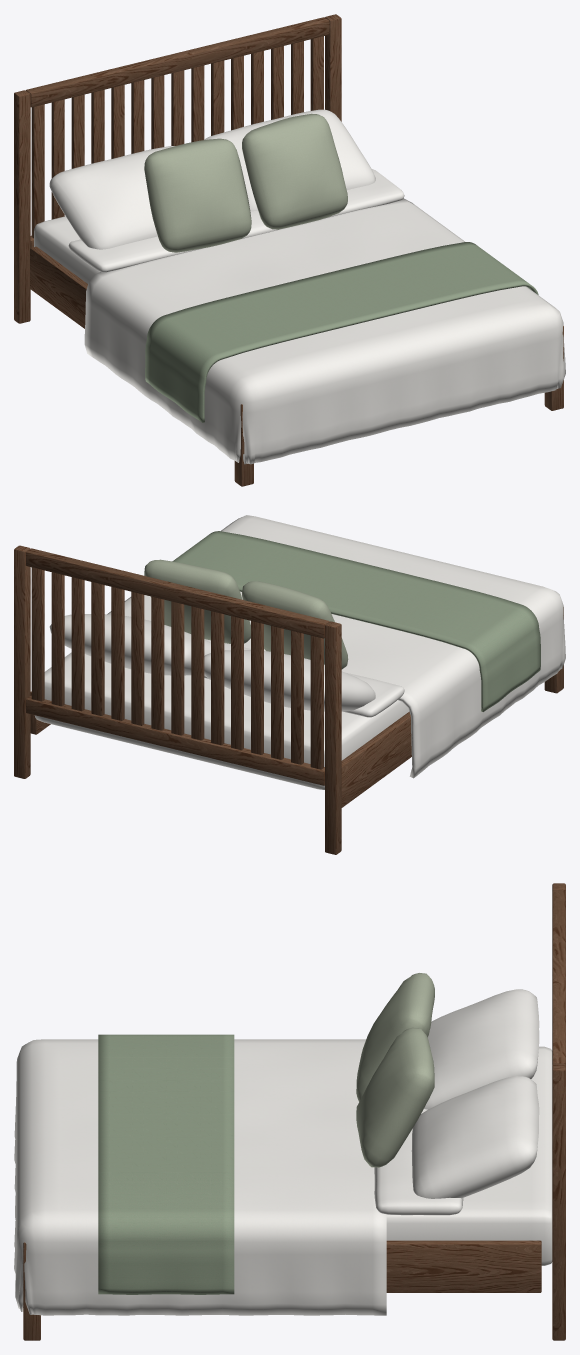
Rendered from cama_listones_150.glb.
The picture shows the model from 3 angles, top to bottom: view 1: azimuth 30°, elevation 25°; view 2: azimuth 150°, elevation 25°; view 3: azimuth 270°, elevation 25°; orthographic projection. The views are drawn at different scales.
Visible parts, largest first — view 1: cama_listones_150; view 2: cama_listones_150; view 3: cama_listones_150.
Boxes of the visible parts, left/top/right/bottom form: cama_listones_150: left=14, top=14, right=565, bottom=486; cama_listones_150: left=14, top=515, right=565, bottom=854; cama_listones_150: left=14, top=883, right=565, bottom=1340.
Bounding box in the file's own units: 1.72 × 1.1 × 2.03.
Materials: 4 (4 with a texture image).
